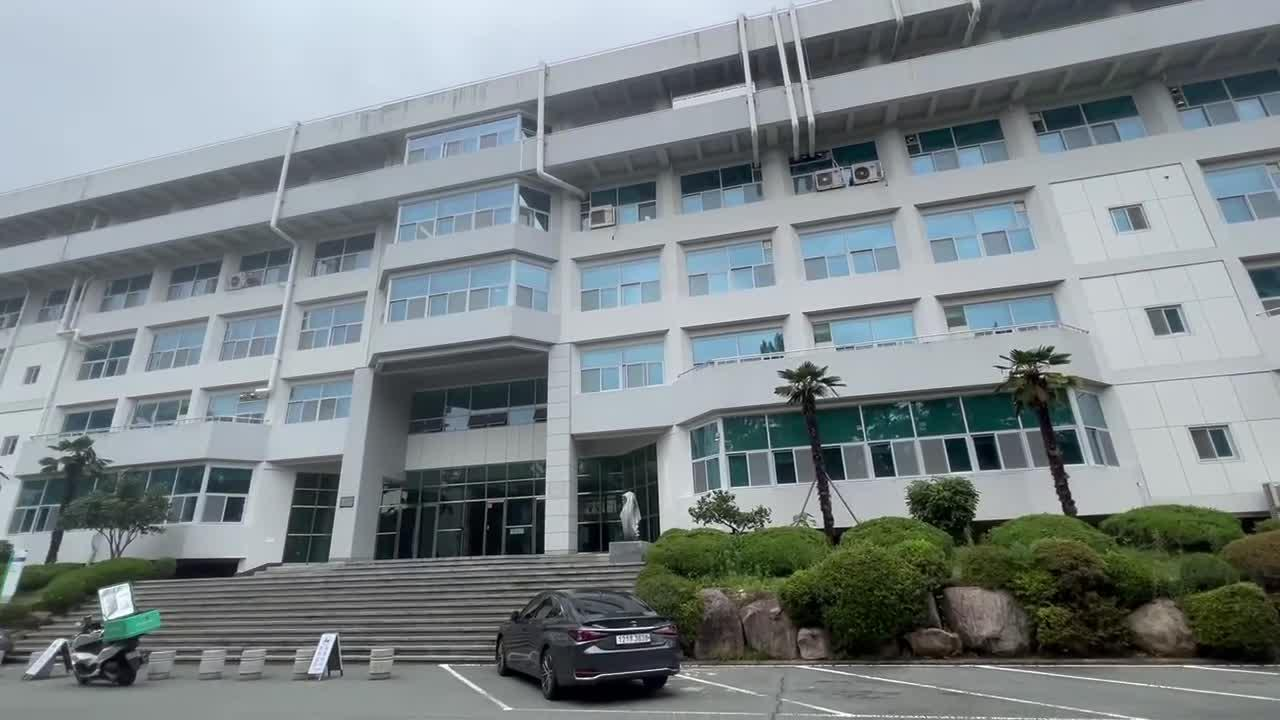building: (28, 28, 1253, 521)
